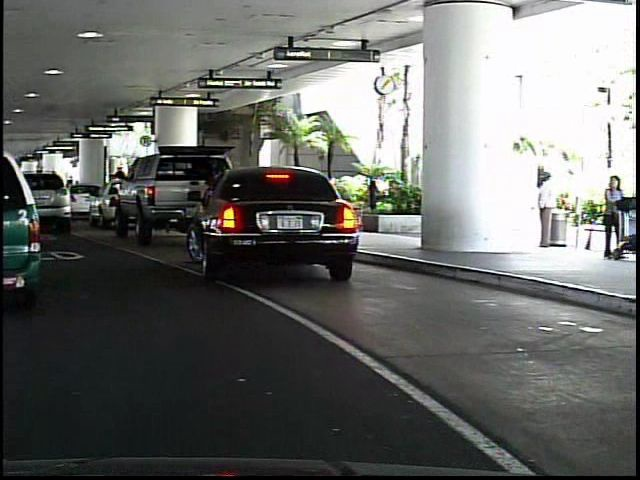person: (596, 170, 626, 265)
